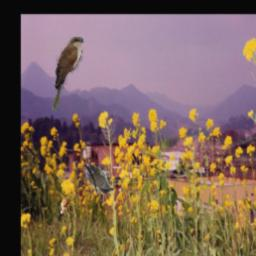Cuckoo: (54, 38, 84, 112), (86, 165, 115, 195)
Sparrow: (59, 194, 75, 216)
